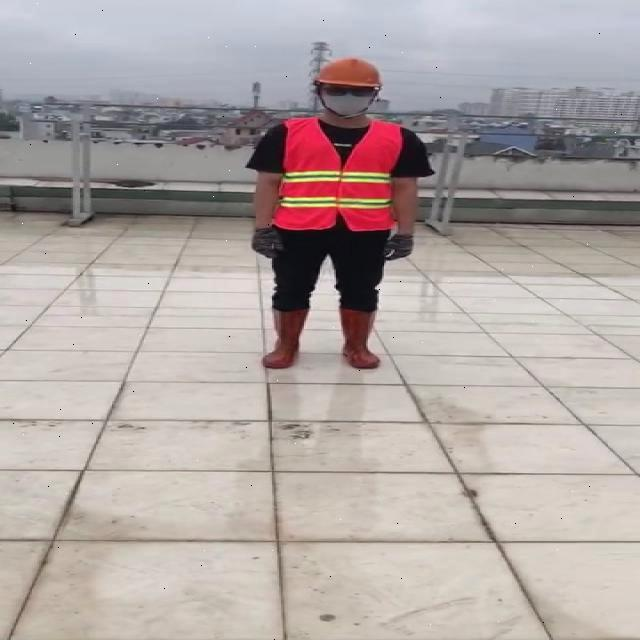Hard_hat: (308, 54, 391, 98)
Person: (236, 50, 435, 378)
Vest: (275, 112, 402, 233)
